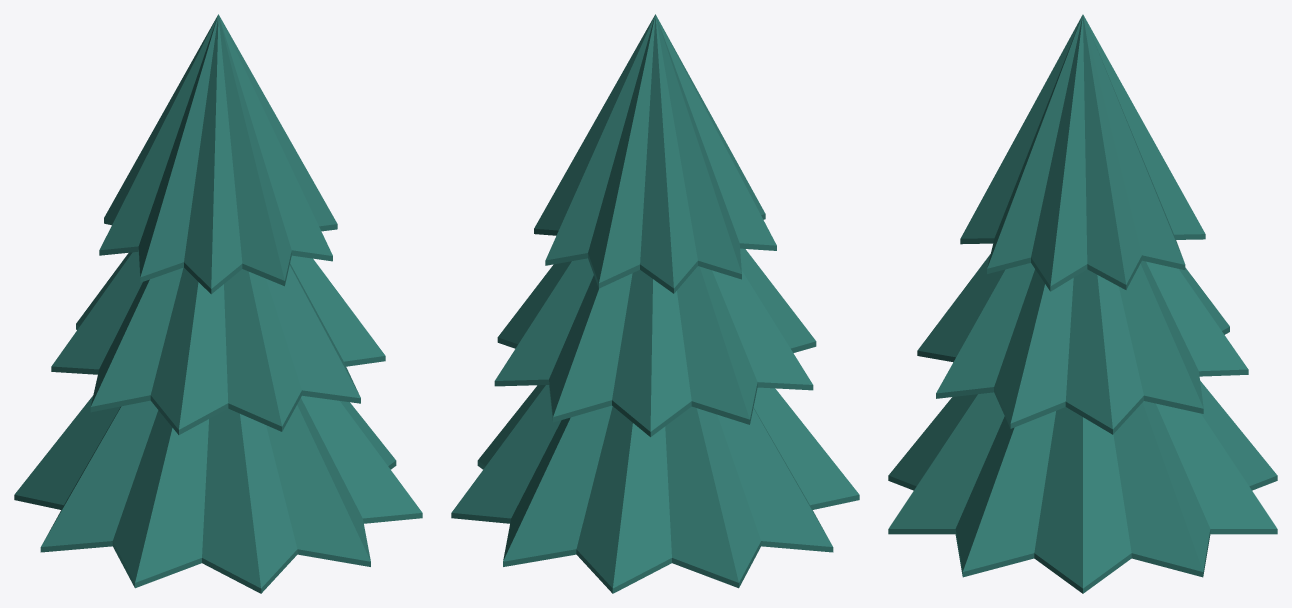
3 renders of one model, left to right at view 1: azimuth 30°, elevation 25°; view 2: azimuth 150°, elevation 25°; view 3: azimuth 270°, elevation 25°, orthographic.
Visible parts, largest first — view 1: 三层折叶树冠_2.001; view 2: 三层折叶树冠_2.001; view 3: 三层折叶树冠_2.001.
Part boxes in pixels (left/top/right/bottom): 三层折叶树冠_2.001: left=14, top=14, right=422, bottom=593; 三层折叶树冠_2.001: left=451, top=14, right=859, bottom=593; 三层折叶树冠_2.001: left=888, top=14, right=1277, bottom=593.
Bounding box in the file's own units: 0.552 × 0.7348 × 0.525.
